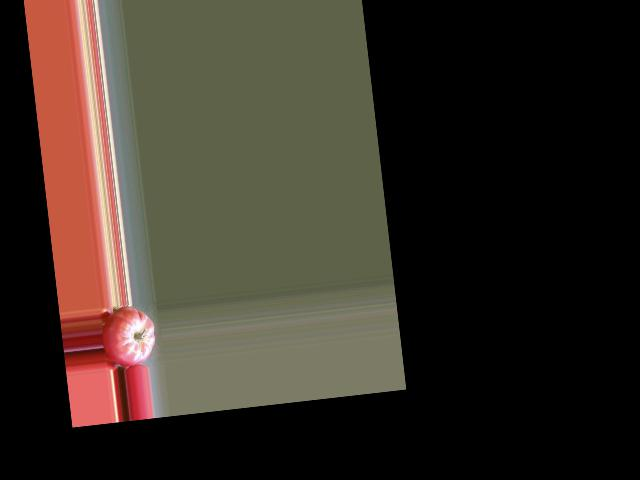tomato: (98, 303, 157, 368)
